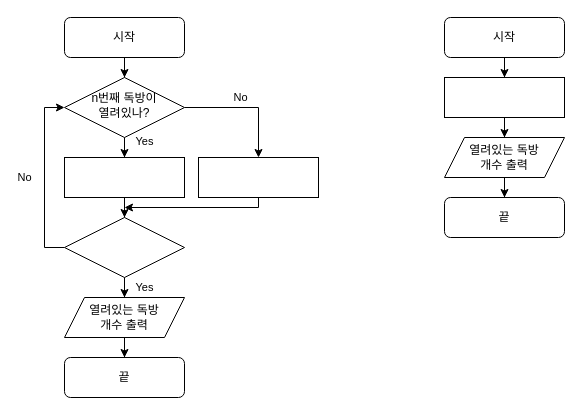
This 582x415 diagram has some shape labels left out. Each missing label, with the box of its shape:
n번 반복 했는가?: (64, 216, 184, 278)
닫는다: (64, 156, 184, 198)
연다: (198, 156, 318, 198)
완전제곱수 계산: (444, 76, 564, 118)
